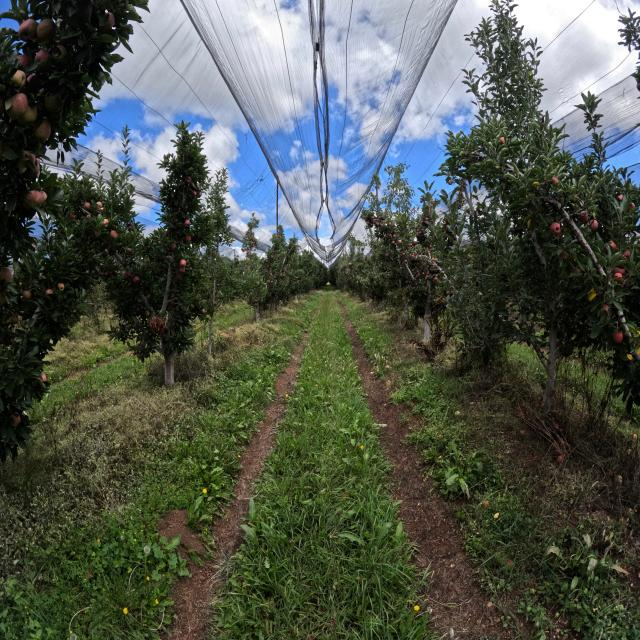-FireBlight-: (148, 316, 166, 336)
